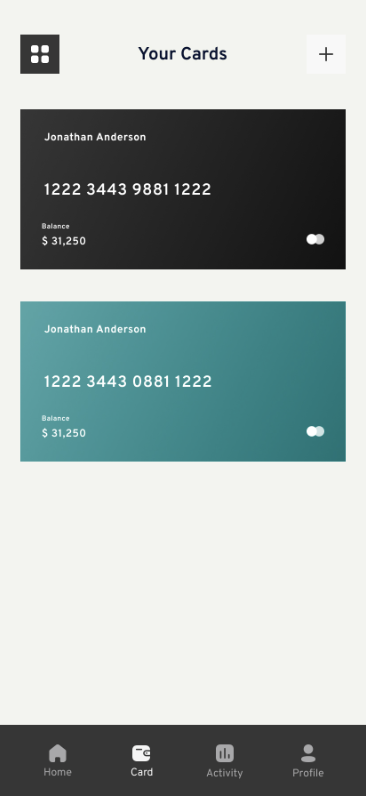AppBar: (1, 1, 366, 77)
BottomBar: (1, 723, 366, 796)
IconButton: (18, 32, 62, 76), (315, 43, 338, 64)
